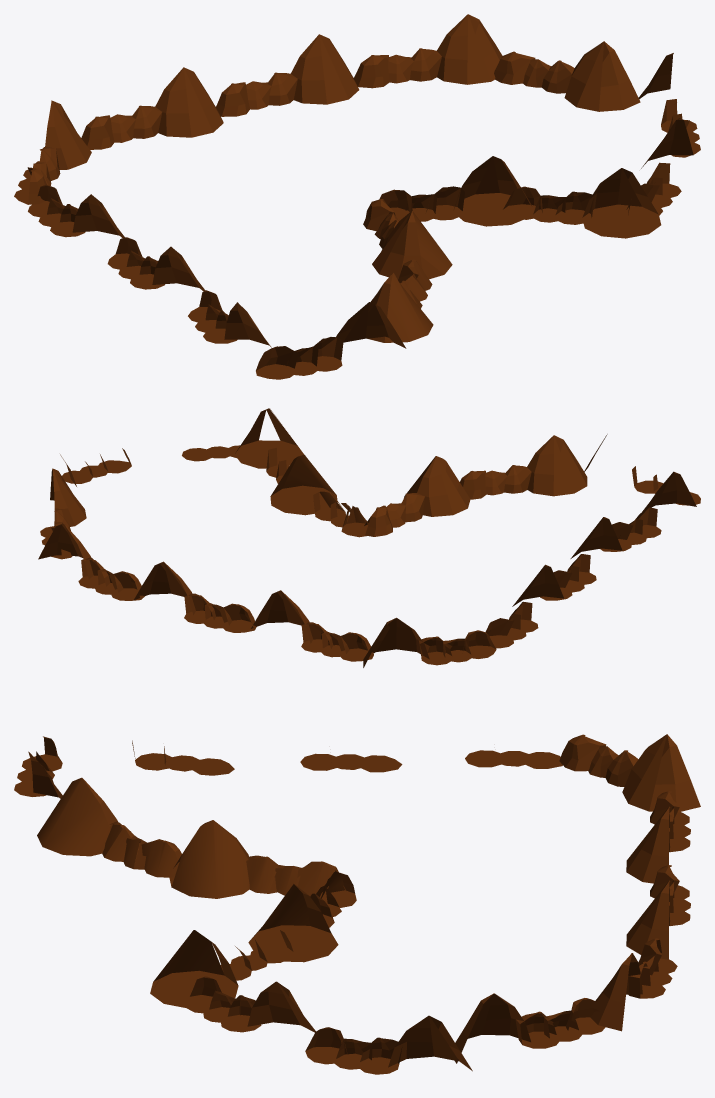
Rendered from montanaNivel2.obj.
The picture shows the model from 3 angles, top to bottom: view 1: azimuth 30°, elevation 25°; view 2: azimuth 150°, elevation 25°; view 3: azimuth 270°, elevation 25°; orthographic projection. The views are drawn at different scales.
Visible parts, largest first — view 1: Montana_1_Montana_Montana_Cylinder.001; view 2: Montana_1_Montana_Montana_Cylinder.001; view 3: Montana_1_Montana_Montana_Cylinder.001.
Boxes of the visible parts, bbox=[...] form: Montana_1_Montana_Montana_Cylinder.001: bbox=[14, 14, 700, 379]; Montana_1_Montana_Montana_Cylinder.001: bbox=[38, 408, 700, 667]; Montana_1_Montana_Montana_Cylinder.001: bbox=[14, 734, 700, 1074].
Size of the model in its own units: 155 by 12.9 by 135.
